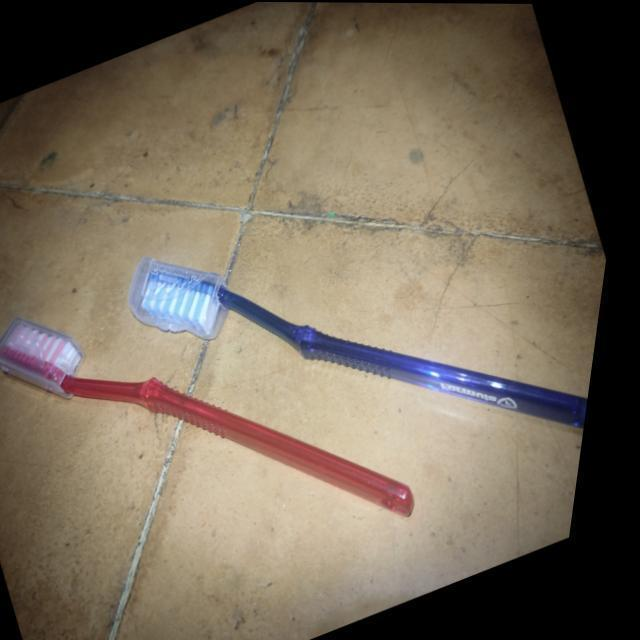toothbrush: (0, 312, 446, 531), (127, 245, 600, 441)
